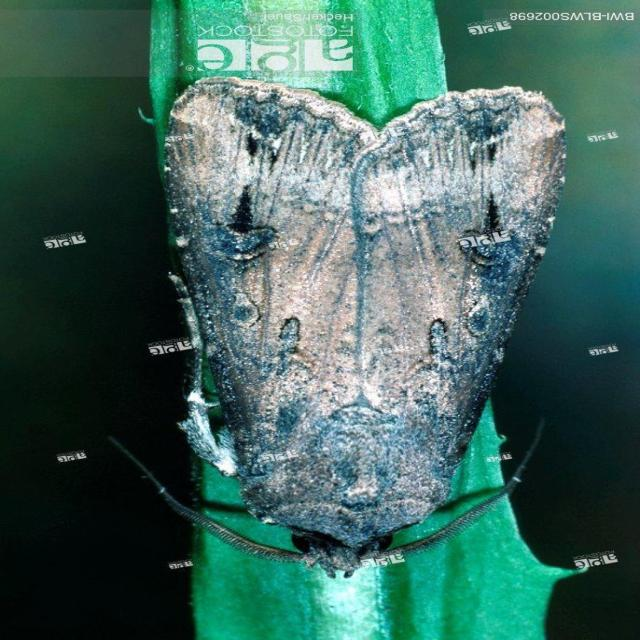black cutworm: (131, 77, 569, 572)
